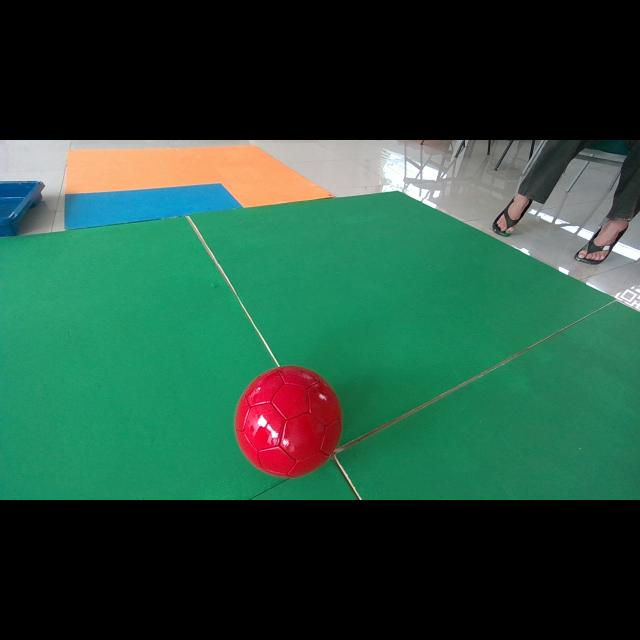R: (235, 365, 342, 477)
